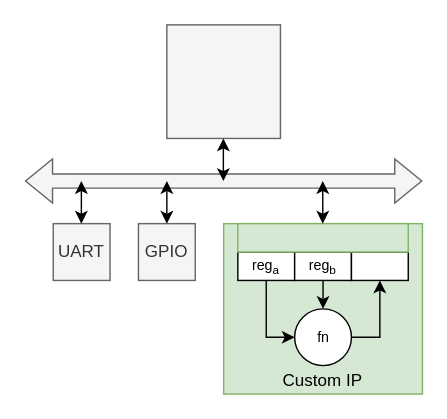
This 447x419 diagram has some shape labels left out. Here are the shapes that lost their labels. From the top down, the box of each, then its label:
(165, 23, 280, 138): RISC-V CPU (VexRiscv)
(236, 222, 408, 252): AXI-Lite r/w logic
(350, 251, 408, 280): reg c
